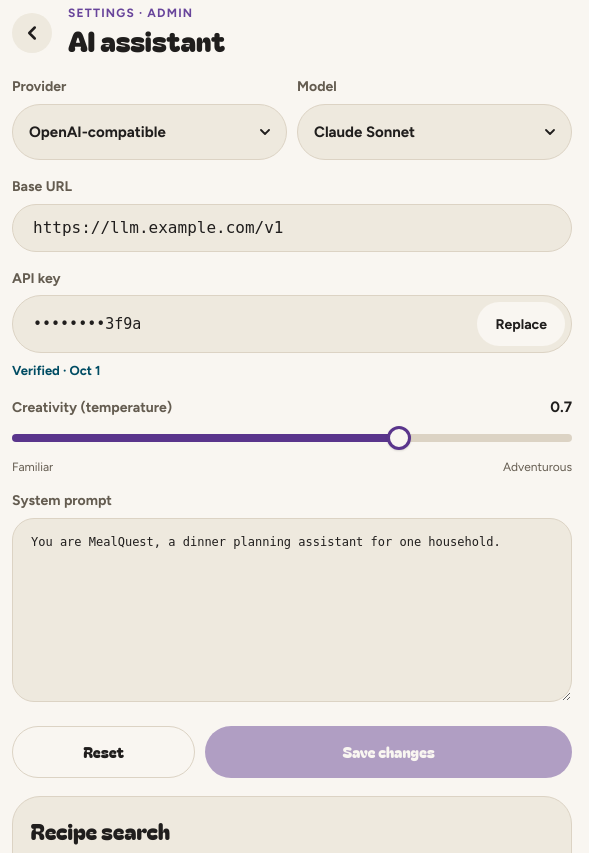
Test: AISettingsPage › gives the same guidance when a stored key locks the base URL
Replace the text in the field labelled "Base URL" with "https://other.example.com/v1". click: point(292, 228)
box: [12,204,572,252]
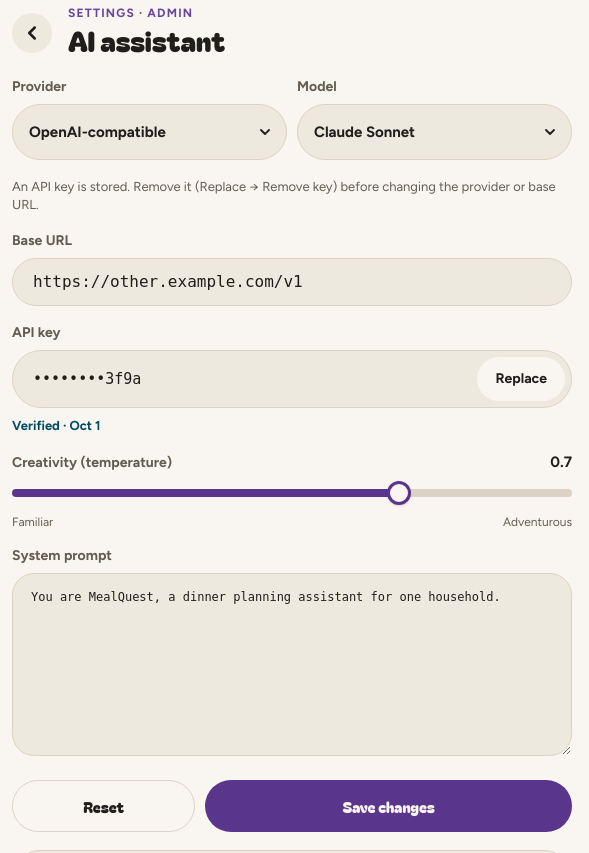
Expected: the button "Replace" is enabled, [478,357,565,401]
Expected: the text "An API key is stored. Remove it" is shown, [12,179,556,212]
Click the button "Save changes". click: point(389, 806)
box: [205,780,572,832]
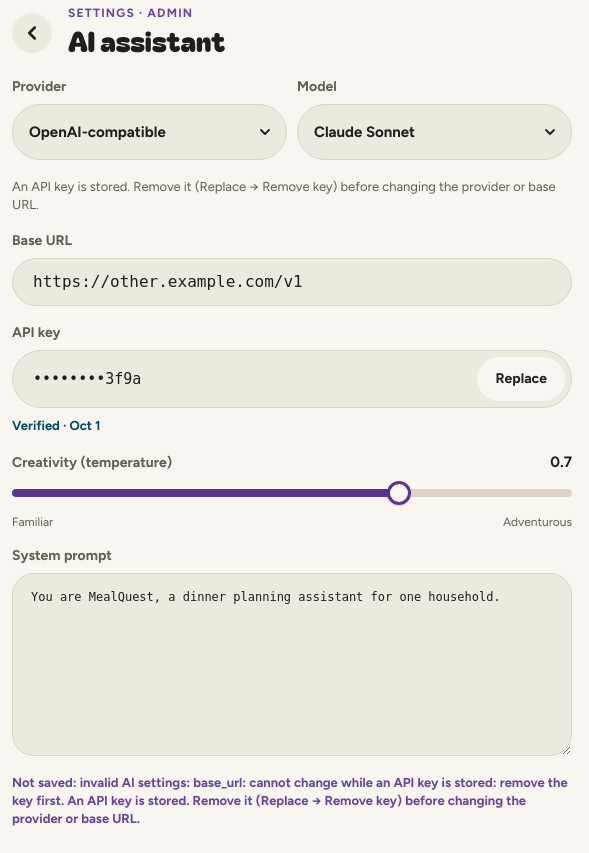
Expected: the message shows "Remove it (Replace → Remove key) before changing the provider or base URL.", [12,775,568,826]
